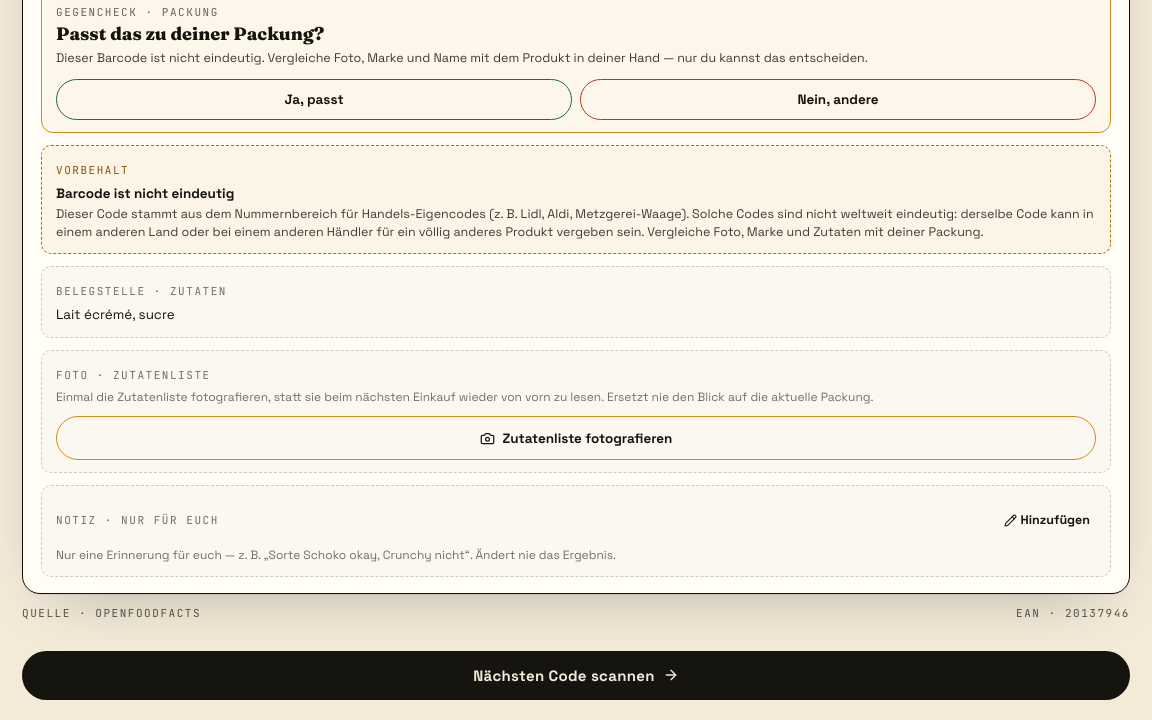
Scenario: ResultScreen personal note (F5) › saves a new note and shows it without staying in edit mode
(page scrolled)
Click the button with aria-label "Notiz hinzufügen" at x=1047, y=520, box [998,498,1096,542]
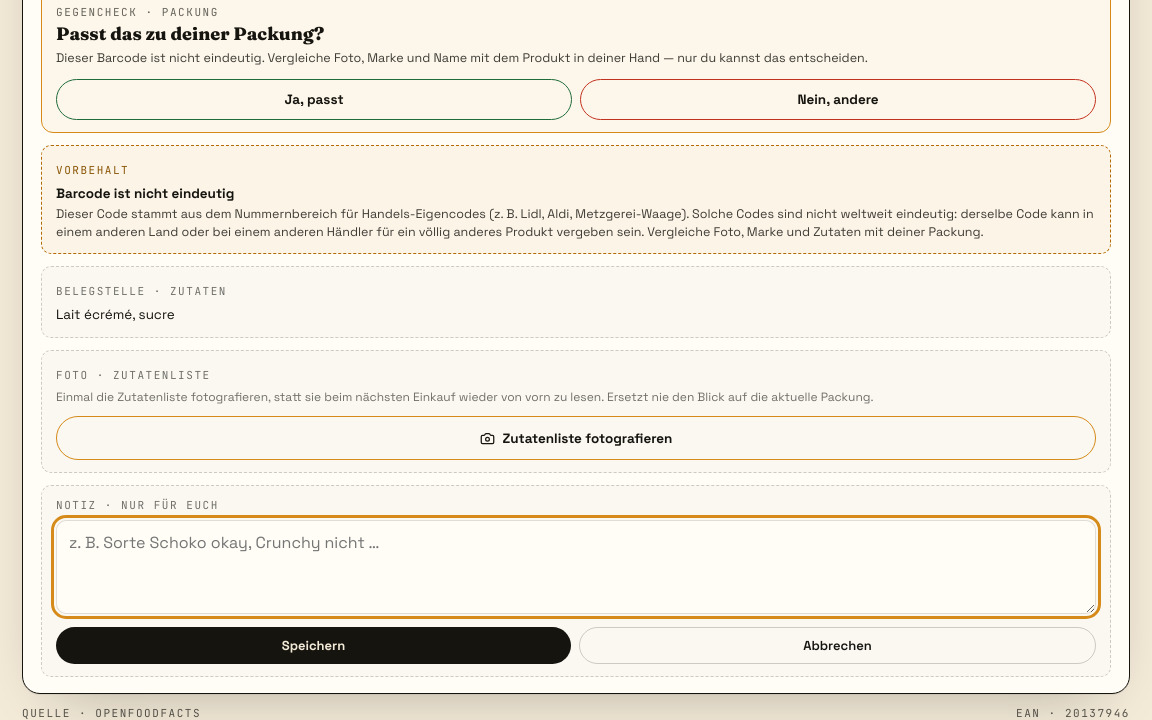
Type "Sorte Schoko okay, Crunchy nicht" into the text box named "Notiz zu diesem Produkt" at x=576, y=567, box [56,520,1096,614]
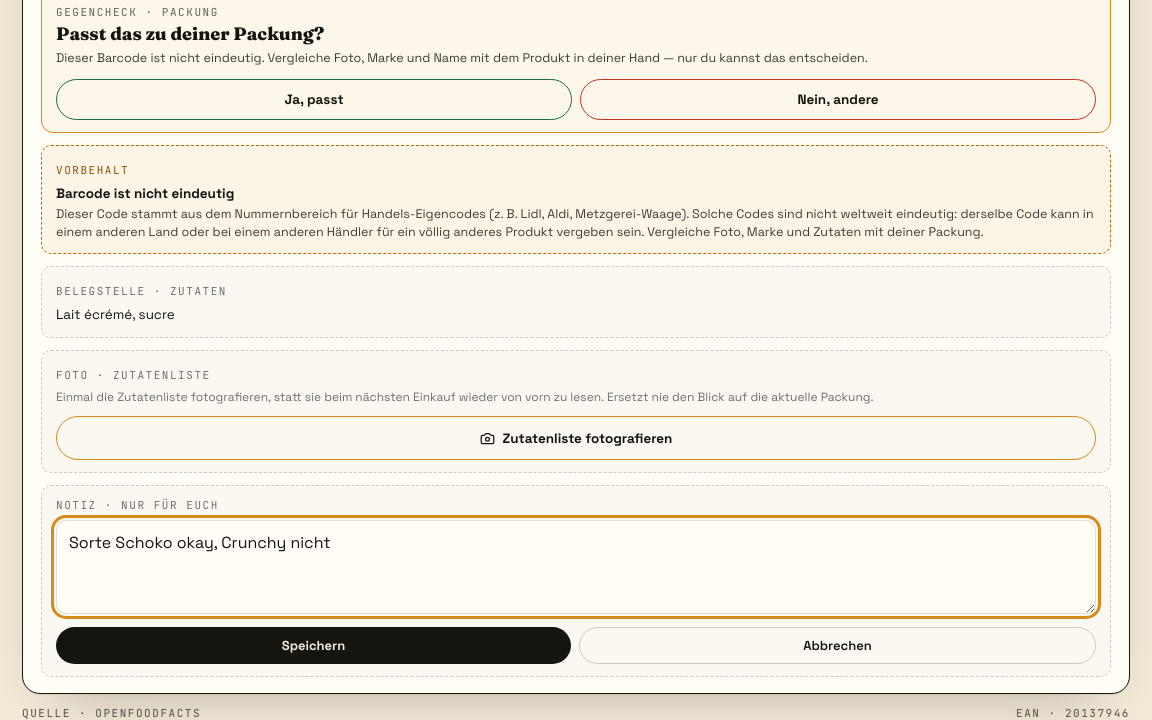
Click the button "Speichern" at x=314, y=646, box [56,627,571,664]
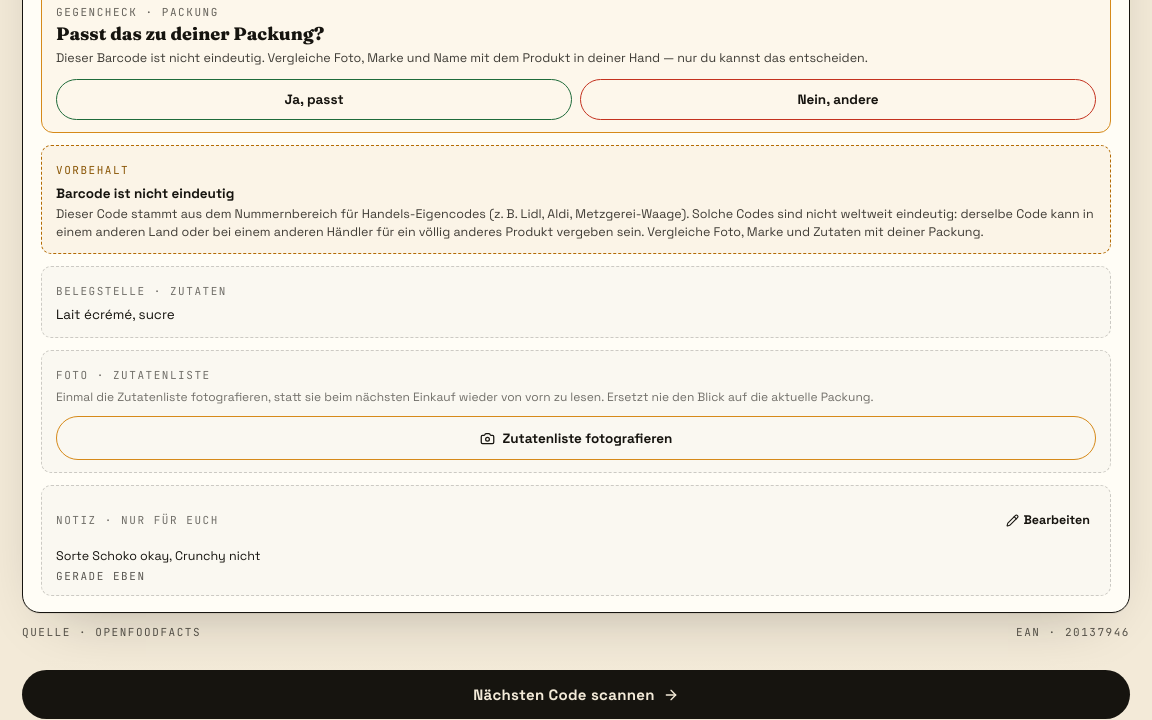
Check: the text "Sorte Schoko okay, Crunchy nicht" is shown, box [56,548,260,564]
